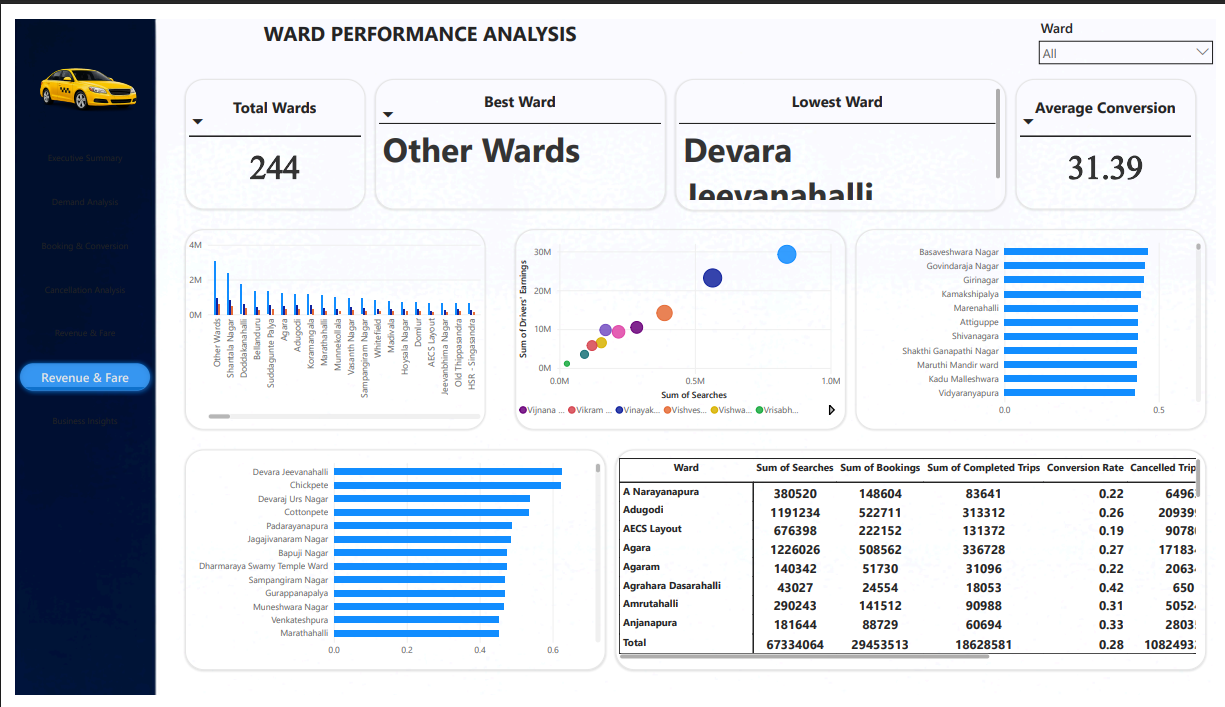

The dashboard page shown, as its layout file describes it:
{"tool":"powerbi","page":{"name":"Revenue & Fare ","canvas":[1920,1080],"ordinal":5},"visuals":[{"type":"tableEx","fields":{"Values":["cleaned_driver_data.Total Wards"]},"box":[272,96,288,208],"z":0},{"type":"pageNavigator","box":[0,192,224,480],"z":1000},{"type":"tableEx","fields":{"Values":["cleaned_driver_data.Best Ward"]},"box":[576,96,464,208],"z":2000},{"type":"tableEx","fields":{"Values":["cleaned_driver_data.Lowest Ward"]},"box":[1056,96,528,210],"z":3000},{"type":"tableEx","fields":{"Values":["cleaned_driver_data.Average Conversion"]},"box":[1600,96,288,208],"z":4000},{"type":"clusteredColumnChart","fields":{"Category":["cleaned_driver_data.Ward"],"Y":["Sum(cleaned_driver_data.Searches)","Sum(cleaned_driver_data.Bookings)","Sum(cleaned_driver_data.Completed Trips)"]},"box":[272,336,480,320],"z":5000},{"type":"scatterChart","fields":{"Series":["cleaned_driver_data.Ward"],"Size":["Sum(cleaned_driver_data.Completed Trips)"],"X":["Sum(cleaned_driver_data.Searches)"],"Y":["Sum(cleaned_driver_data.Drivers' Earnings)"]},"box":[800,336,528,320],"z":6000},{"type":"clusteredBarChart","fields":{"Category":["cleaned_driver_data.Ward"],"Y":["cleaned_driver_data.Conversion Rate"]},"box":[1344,336,560,320],"z":7000},{"type":"clusteredBarChart","fields":{"Category":["cleaned_driver_data.Ward"],"Y":["cleaned_driver_data.Cancellation Rate"]},"box":[272,688,672,352],"z":8000},{"type":"pivotTable","fields":{"Rows":["cleaned_driver_data.Ward"],"Values":["Sum(cleaned_driver_data.Searches)","Sum(cleaned_driver_data.Bookings)","Sum(cleaned_driver_data.Completed Trips)","cleaned_driver_data.Conversion Rate","cleaned_driver_data.Cancelled Trips","cleaned_driver_data.Driver Earnings","cleaned_driver_data.Average Fare","cleaned_driver_data.Average Distance"]},"box":[960,688,944,352],"z":9000},{"type":"slicer","fields":{"Values":["cleaned_driver_data.Ward"]},"box":[1632,0,288,96],"z":10000},{"type":"textbox","box":[224,0,848,96],"z":11000},{"type":"image","box":[0,0,288,192],"z":11001}]}

Visuals, with their boxes on the page's 1920x1080 design canvas (x1, y1, x2, y2). These are canvas units, not pixel positions in the 1225x707 screenshot, which may show the page scaled, cropped or inside an application window:
tableEx - cleaned_driver_data.Total Wards: 272, 96, 560, 304
pageNavigator: 0, 192, 224, 672
tableEx - cleaned_driver_data.Best Ward: 576, 96, 1040, 304
tableEx - cleaned_driver_data.Lowest Ward: 1056, 96, 1584, 306
tableEx - cleaned_driver_data.Average Conversion: 1600, 96, 1888, 304
clusteredColumnChart - cleaned_driver_data.Ward x Sum(cleaned_driver_data.Searches): 272, 336, 752, 656
scatterChart - cleaned_driver_data.Ward x Sum(cleaned_driver_data.Completed Trips): 800, 336, 1328, 656
clusteredBarChart - cleaned_driver_data.Ward x cleaned_driver_data.Conversion Rate: 1344, 336, 1904, 656
clusteredBarChart - cleaned_driver_data.Ward x cleaned_driver_data.Cancellation Rate: 272, 688, 944, 1040
pivotTable - cleaned_driver_data.Ward x Sum(cleaned_driver_data.Searches): 960, 688, 1904, 1040
slicer - cleaned_driver_data.Ward: 1632, 0, 1920, 96
textbox: 224, 0, 1072, 96
image: 0, 0, 288, 192
